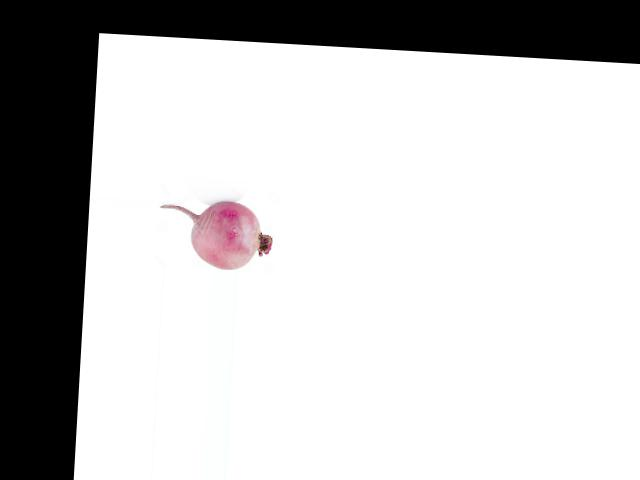beet: (157, 197, 274, 271)
